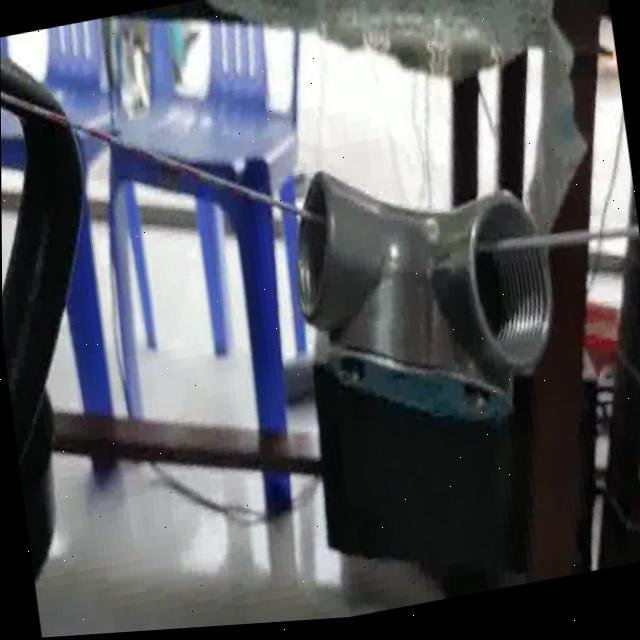Dry: (283, 131, 565, 462)
